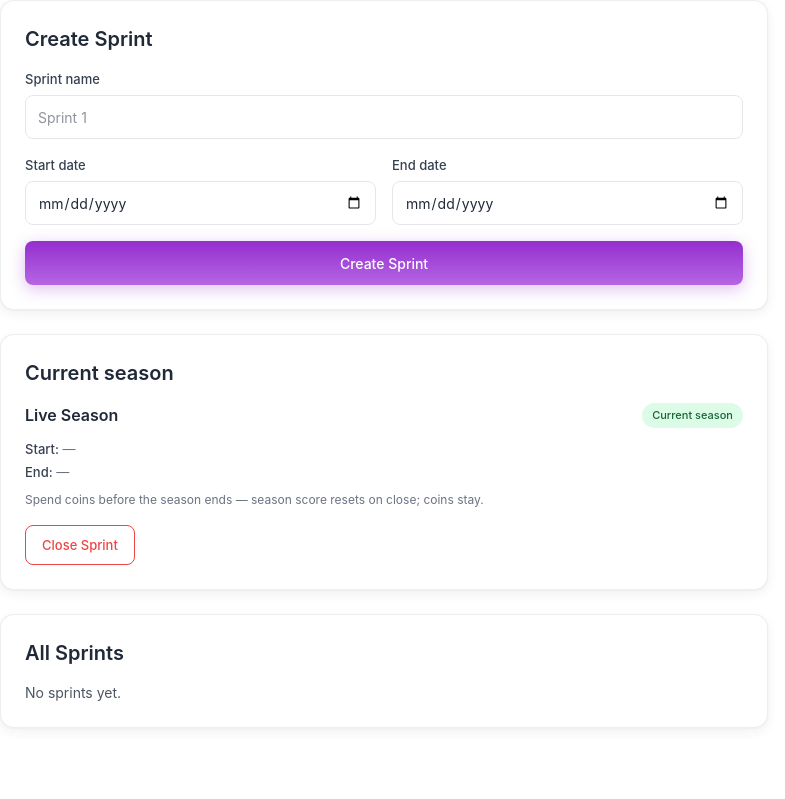
Test: SprintManagementTab › cancels the close confirmation
Click the button "Close Sprint": (80, 544) [25,524,135,564]
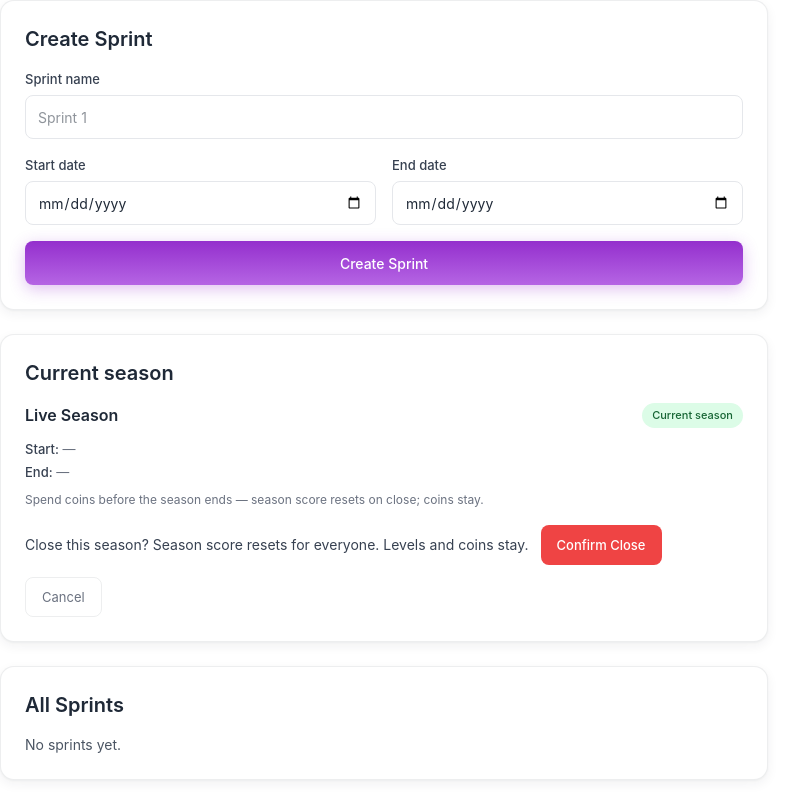
Click the button "Cancel": (63, 596) [25,576,102,616]
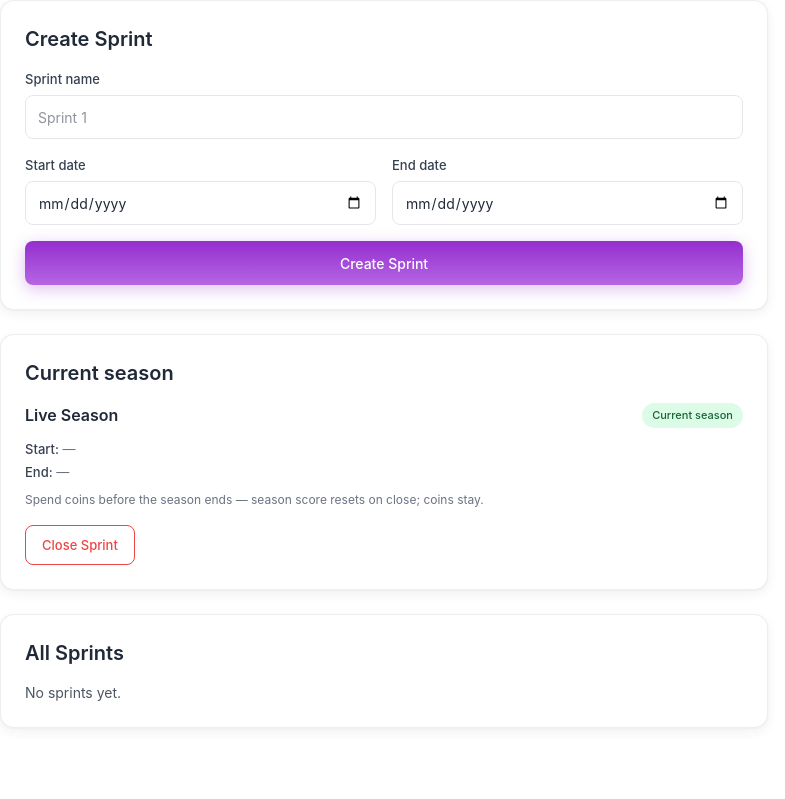
Expected: the button "Close Sprint" is shown, [25,524,135,564]
